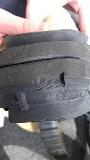temoin:100: (32, 71, 68, 92)
